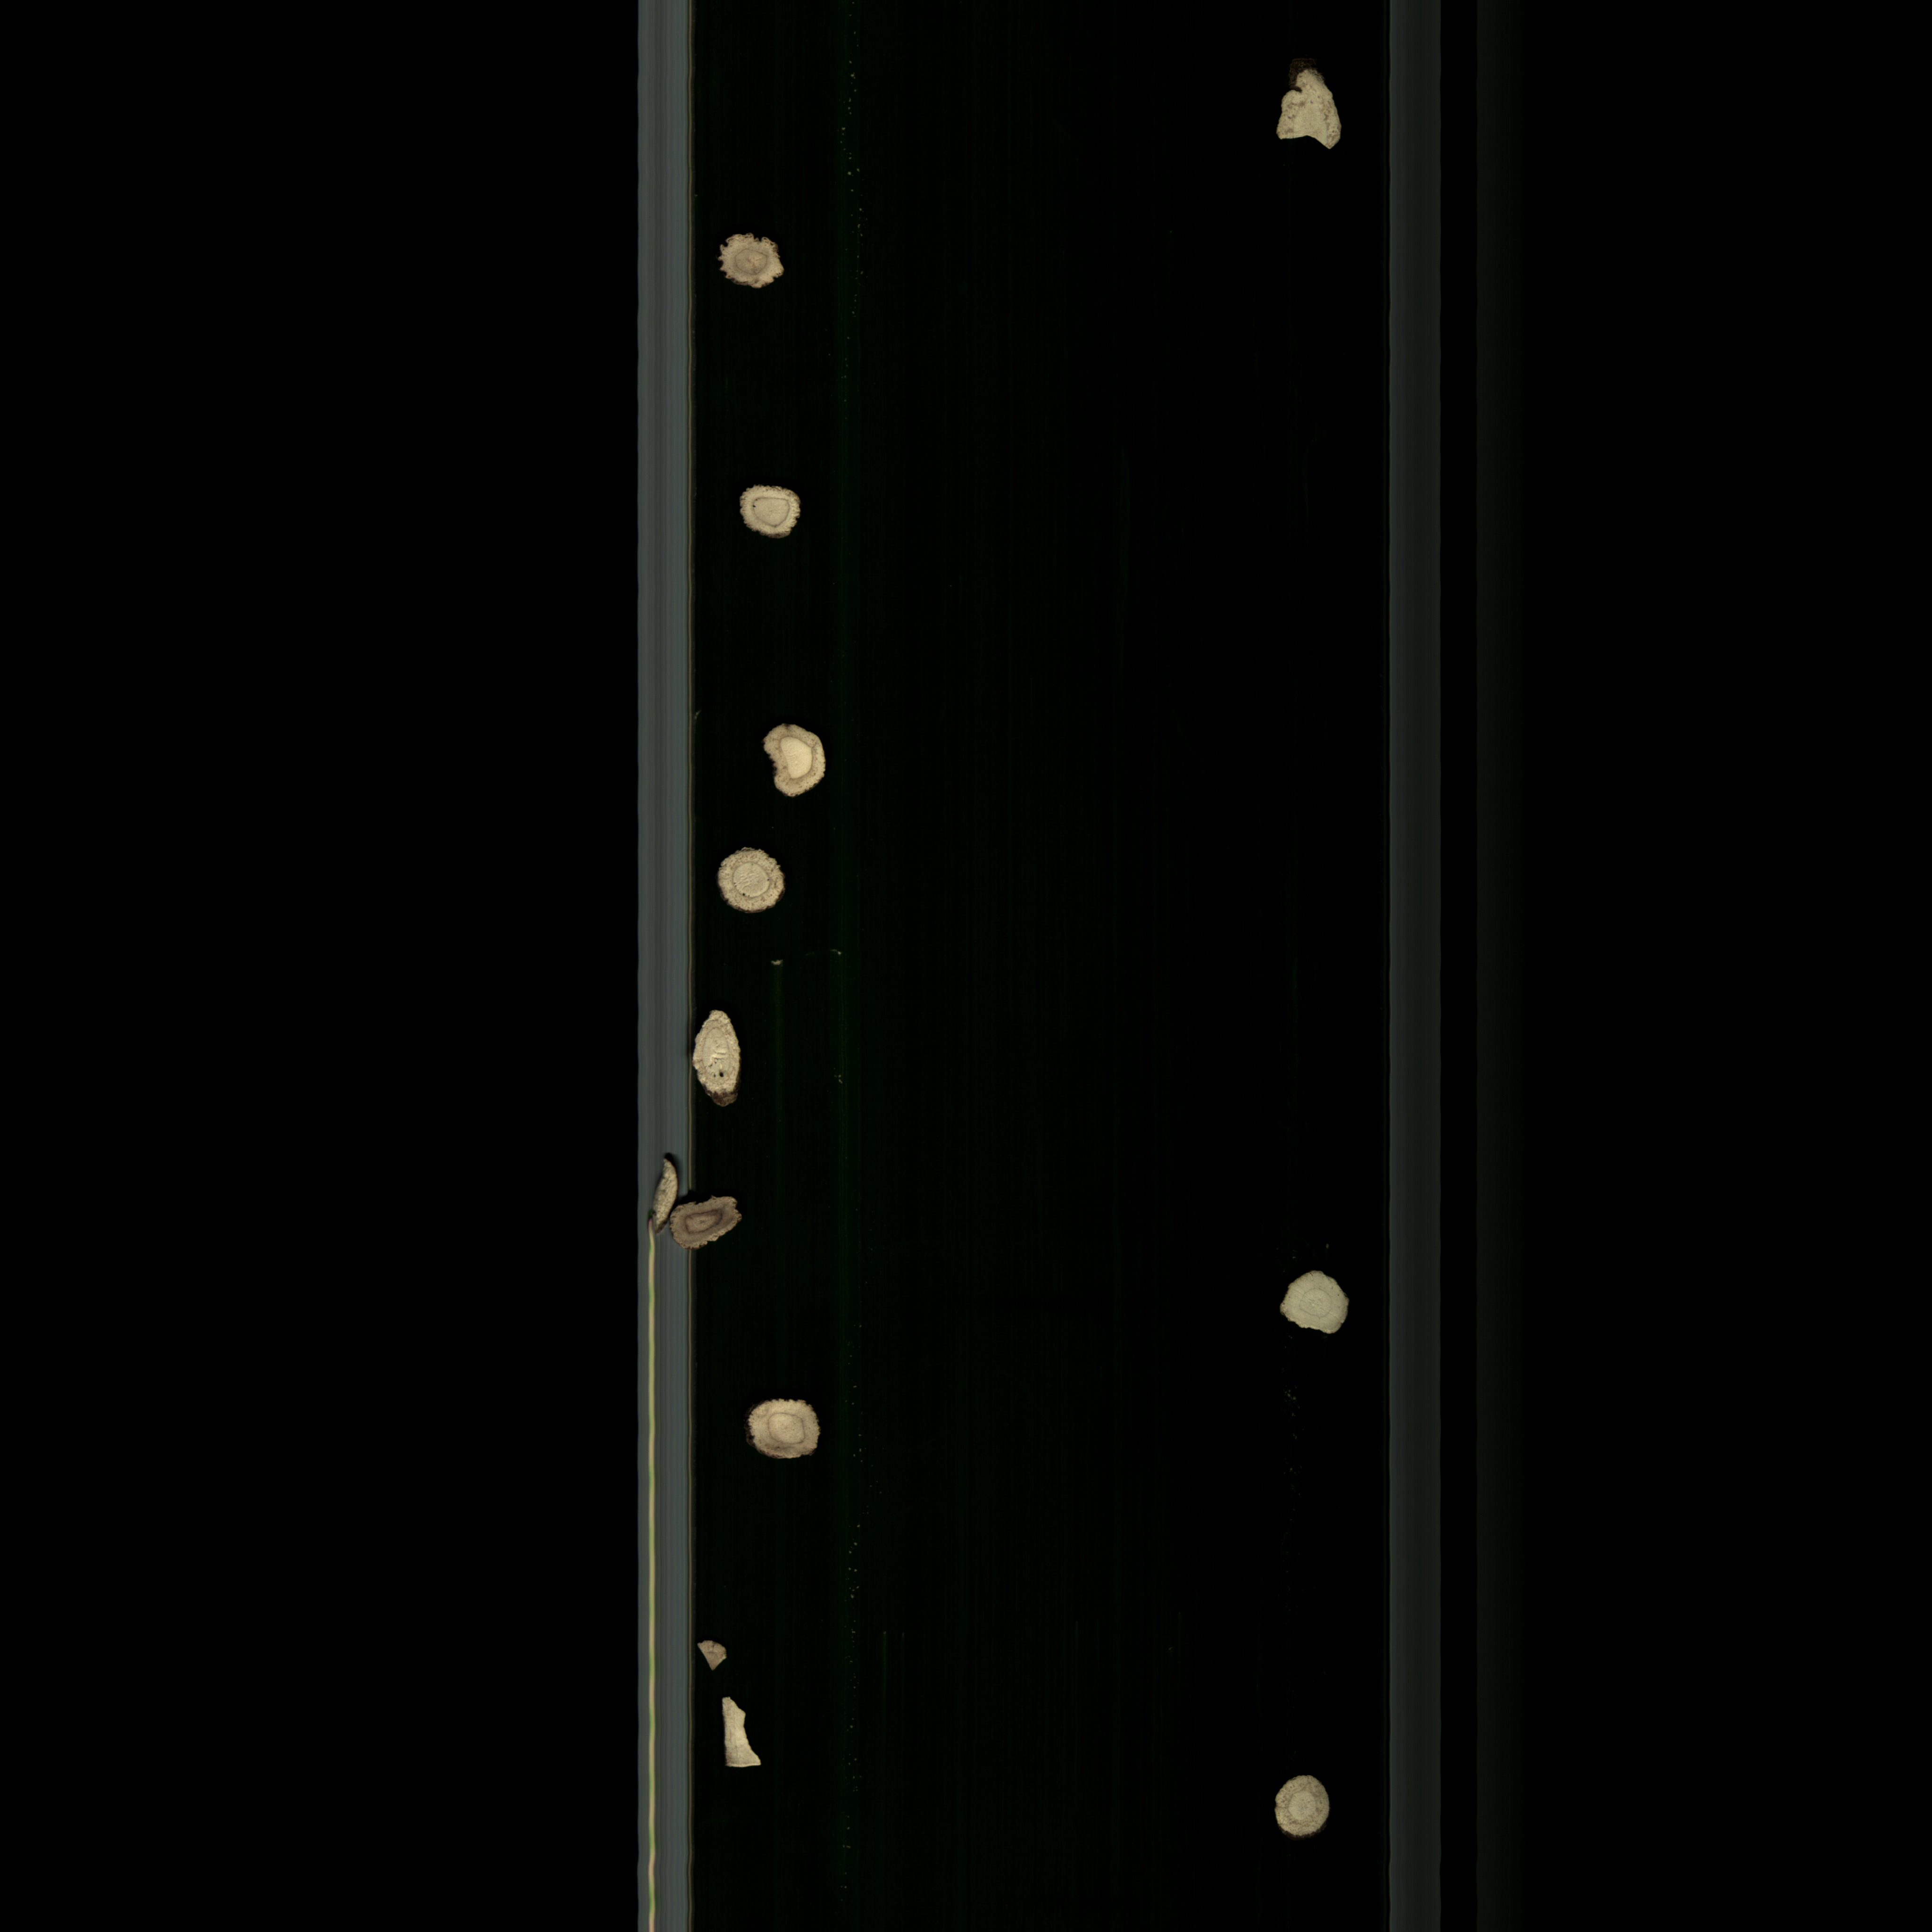debris: (1277, 58, 1359, 170), (1277, 1261, 1359, 1361)
distortion: (683, 1003, 761, 1125), (748, 718, 842, 807)
dreg: (715, 1693, 768, 1785), (651, 1150, 679, 1240), (695, 1635, 731, 1677)
moldy: (704, 218, 807, 308), (656, 1191, 754, 1258)
